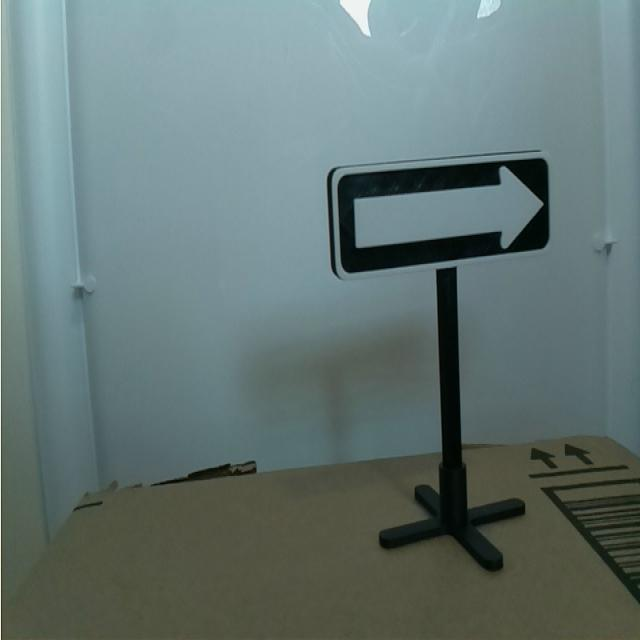sign_oneway_right: (315, 140, 562, 292)
